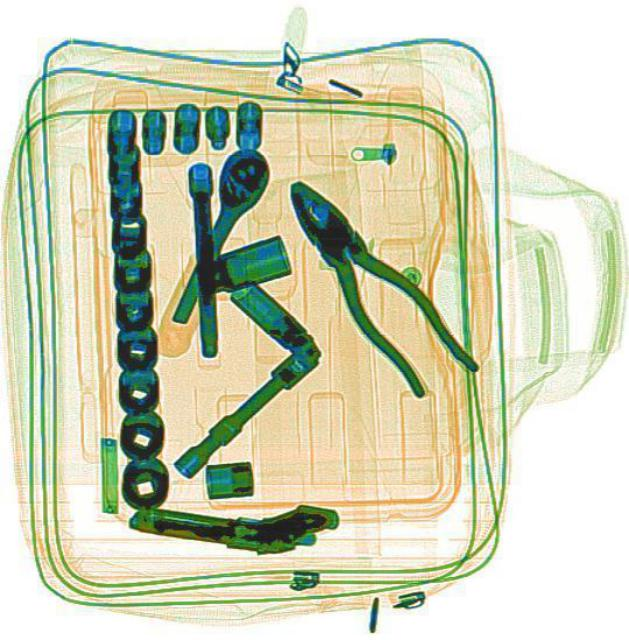Gun: (125, 476, 344, 566)
Pliers: (259, 163, 478, 407)
